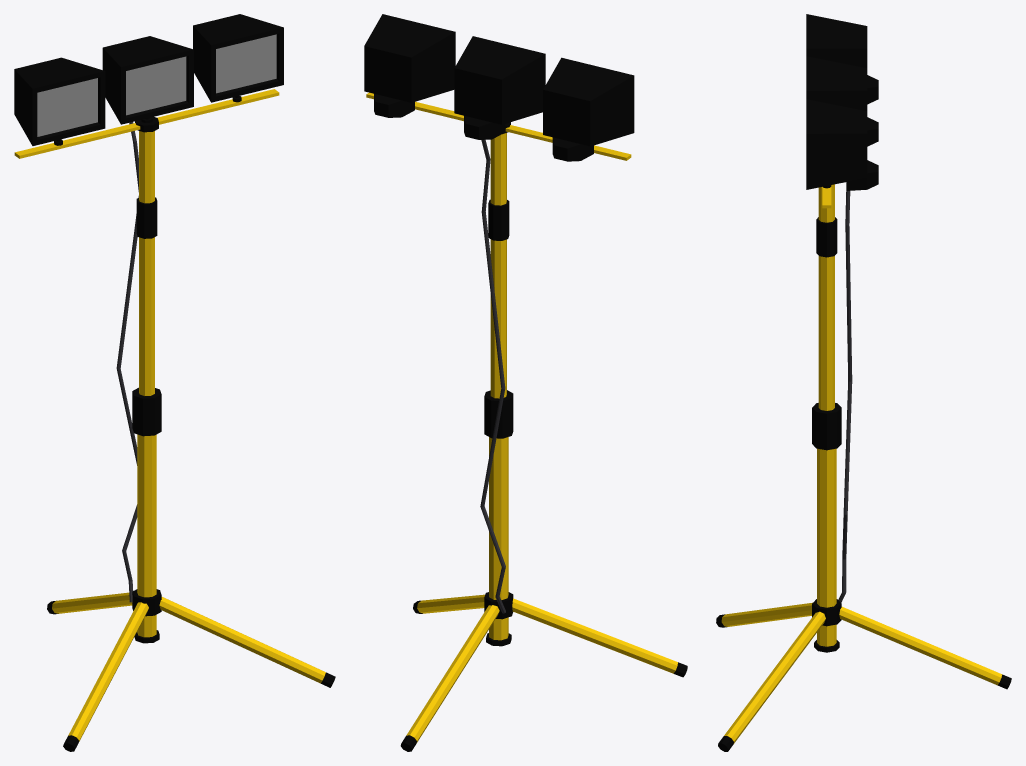
Rendered from Projecteur_C.FBX.
3 views of the same model, side by side, from view 1: azimuth 30°, elevation 25°; view 2: azimuth 150°, elevation 25°; view 3: azimuth 270°, elevation 25° (orthographic). The views are drawn at different scales.
Parts seen in each view (by area): view 1: Top002, Cylinder030, Box016, Box015, Box013, Verre003, Verre005, Verre006, Cylinder031, Cylinder032, cable, Cylinder033; view 2: Box016, Box015, Box013, Top002, Cylinder030, Cylinder032, Cylinder033, cable, Cylinder031; view 3: Box015, Cylinder030, Top002, Box013, Box016, Cylinder033, Cylinder031, cable, Cylinder032.
Part boxes in pixels (x1,y1,x2,y2): Top002: (14,89,279,395); Cylinder030: (132,387,161,643); Box016: (14,57,105,145); Box015: (193,14,283,102); Box013: (102,36,193,124); Verre003: (126,56,186,115); Verre005: (216,34,276,93); Verre006: (37,78,97,136); Cylinder031: (159,597,335,687); Cylinder032: (63,602,148,751); cable: (116,122,138,602); Cylinder033: (47,592,132,614); Box016: (543,57,634,161); Box015: (364,14,455,117); Box013: (454,36,545,139); Top002: (366,92,631,398); Cylinder030: (484,390,513,646); Cylinder032: (512,598,687,677); Cylinder033: (400,605,499,751); cable: (480,139,505,613); Cylinder031: (413,594,484,613); Box015: (806,99,878,190); Cylinder030: (812,403,841,652); Top002: (816,184,837,410); Box013: (806,56,878,146); Box016: (806,14,878,104); Cylinder033: (839,606,1011,689); Cylinder031: (718,611,825,751); cable: (838,182,852,602); Cylinder032: (716,602,812,627).
Size of the model in its own units: 74.66 by 165 by 71.91.
2 materials, 1 textured.
